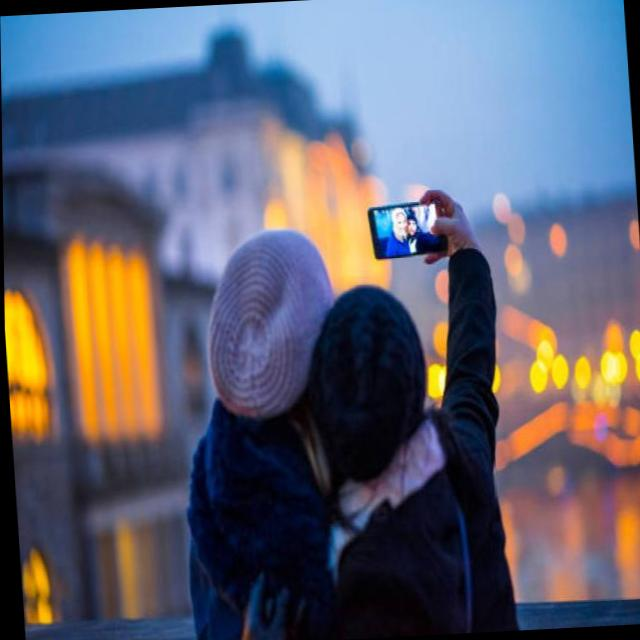no helmet: (189, 212, 362, 438), (295, 282, 449, 466)
